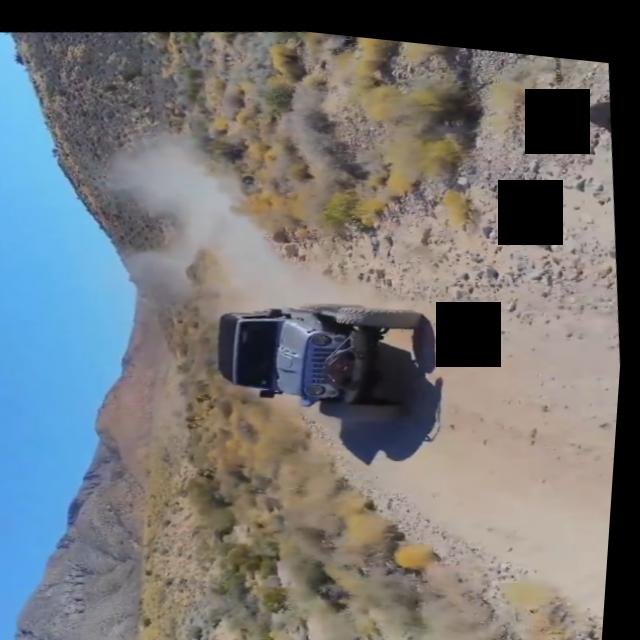Vehicle: (196, 268, 438, 438)
